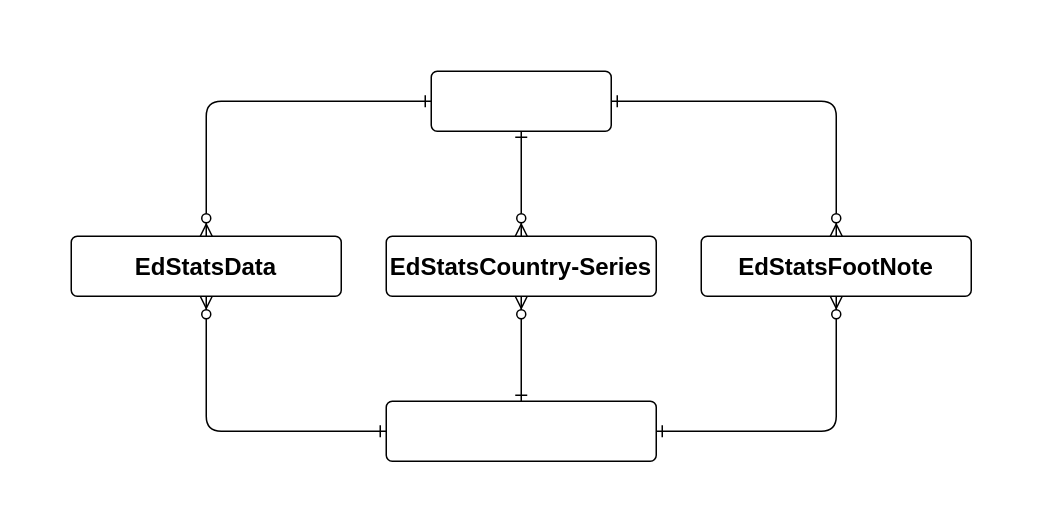
Image size: 1041x531. Some labels were removed from this diagram. Each missing label, with the box of its shape:
EdStatsCountry: (430, 70, 611, 131)
EdStatsSeries: (385, 400, 656, 461)
